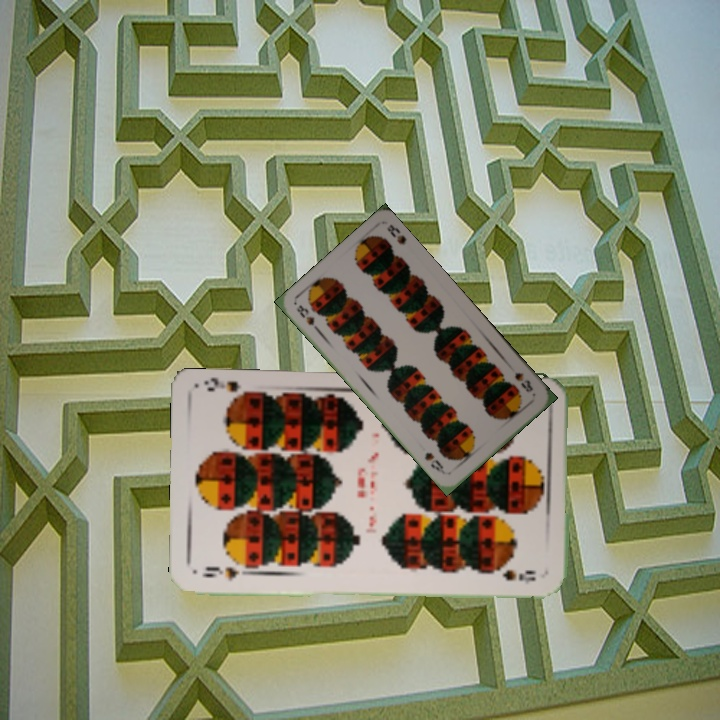S8: (292, 301, 323, 335), (510, 368, 536, 395)
S9: (198, 562, 252, 584)
